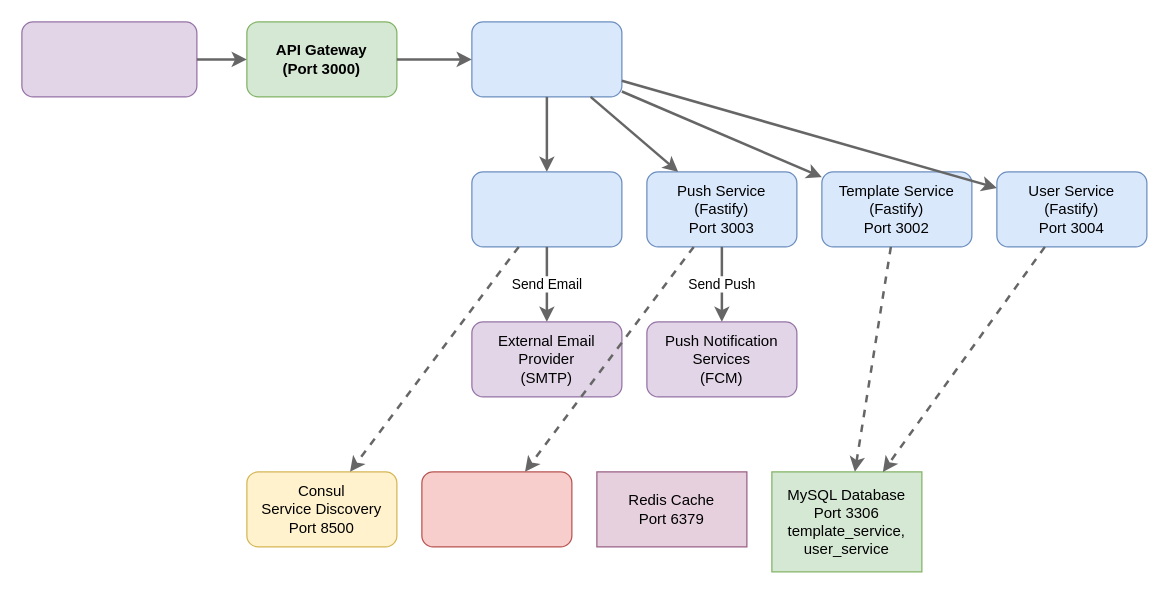
Some shapes in this 1169 by 594 pixel diagram are drawn without their labels. The centre of each missing label's shape, as x and y in pixels:
"Email Service (Fastify) Port 3001" belongs at point (546, 209).
"External Clients (Mobile/Web Apps)" belongs at point (109, 59).
"Gateway Service (NestJS)" belongs at point (546, 59).
"RabbitMQ Message Broker Ports 5672/15672" belongs at point (496, 509).
